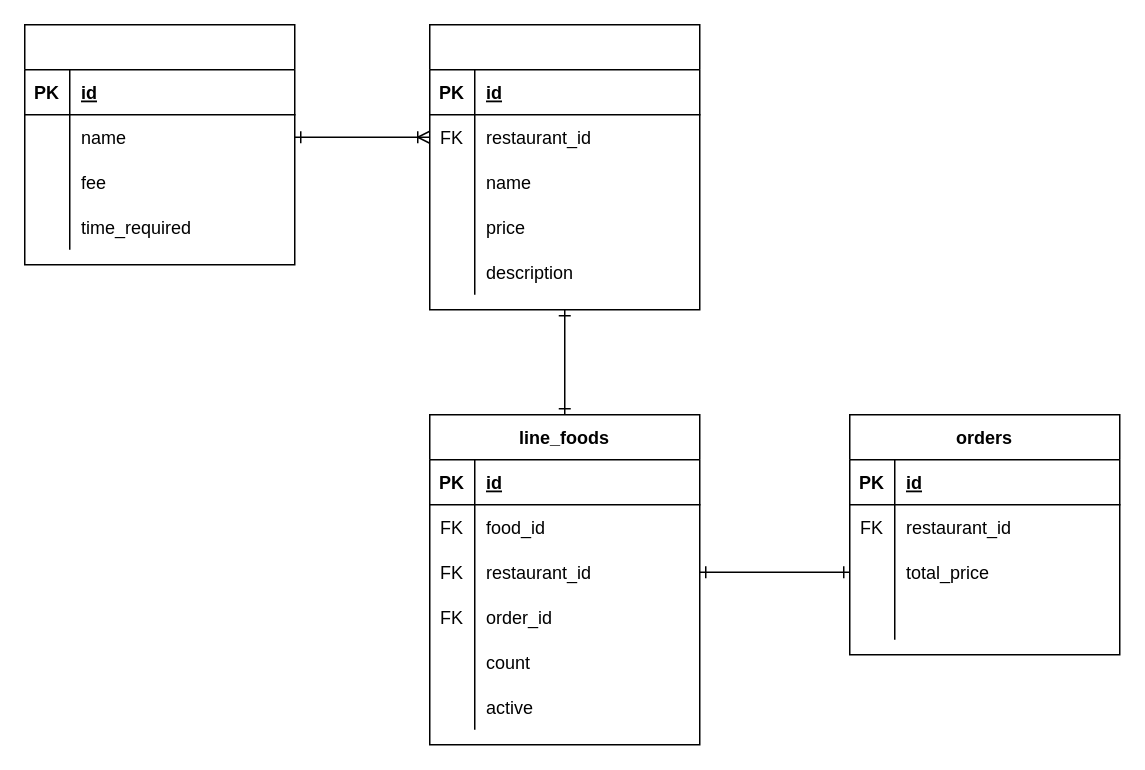
Some shapes in this 1145 by 770 pixel diagram are drawn without their labels. The box of each missing label's shape, as (x1, y1, x2, y2) in pixels:
foods: (428, 23, 700, 310)
restaurants: (23, 23, 295, 265)
